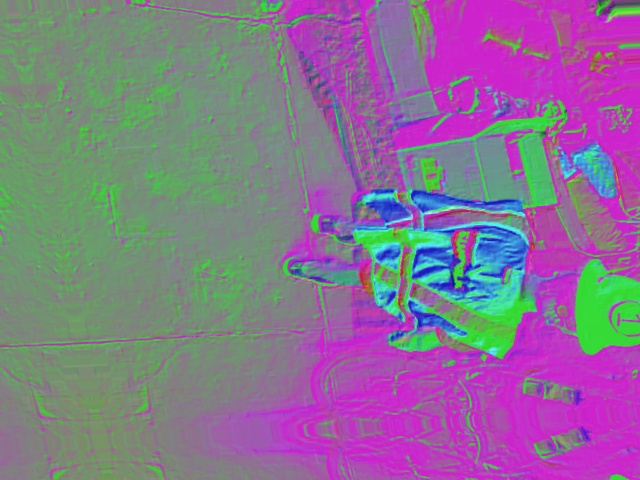one: (608, 300, 639, 337)
